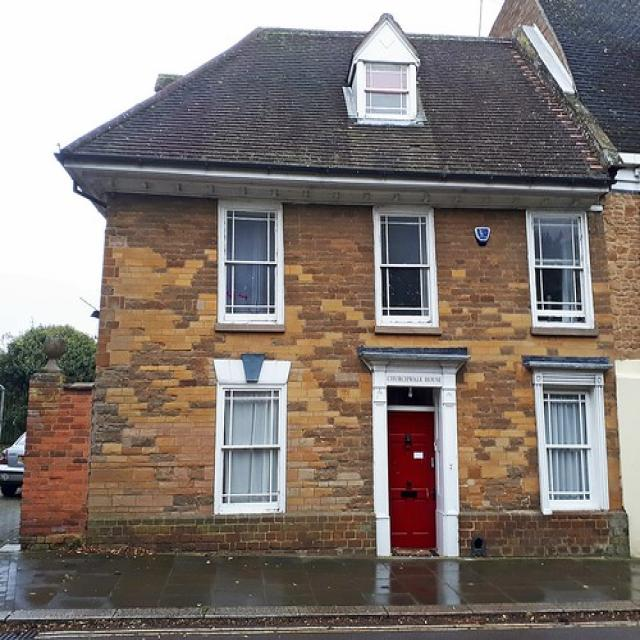building: (47, 12, 625, 566)
